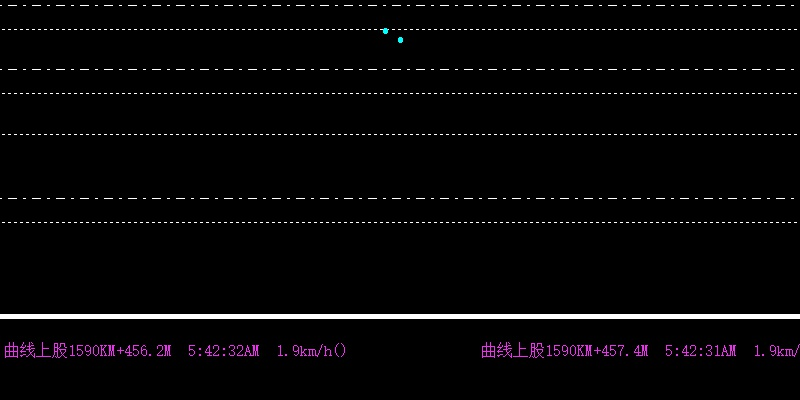face_1: (380, 22, 391, 37)
face_down: (396, 26, 405, 48)
